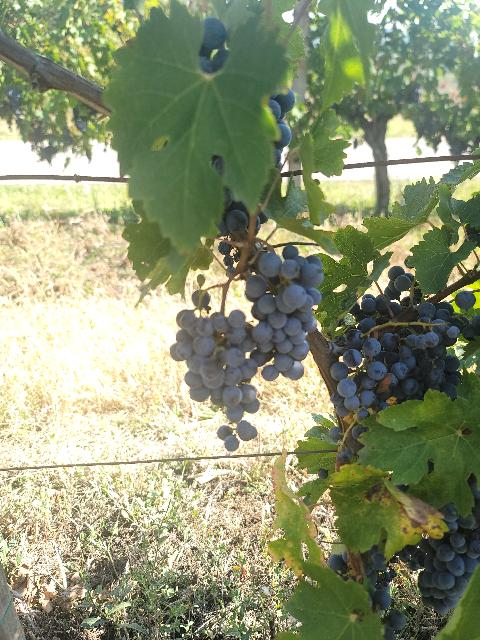grapes: (170, 310, 260, 451), (396, 475, 480, 615), (245, 245, 324, 381)
